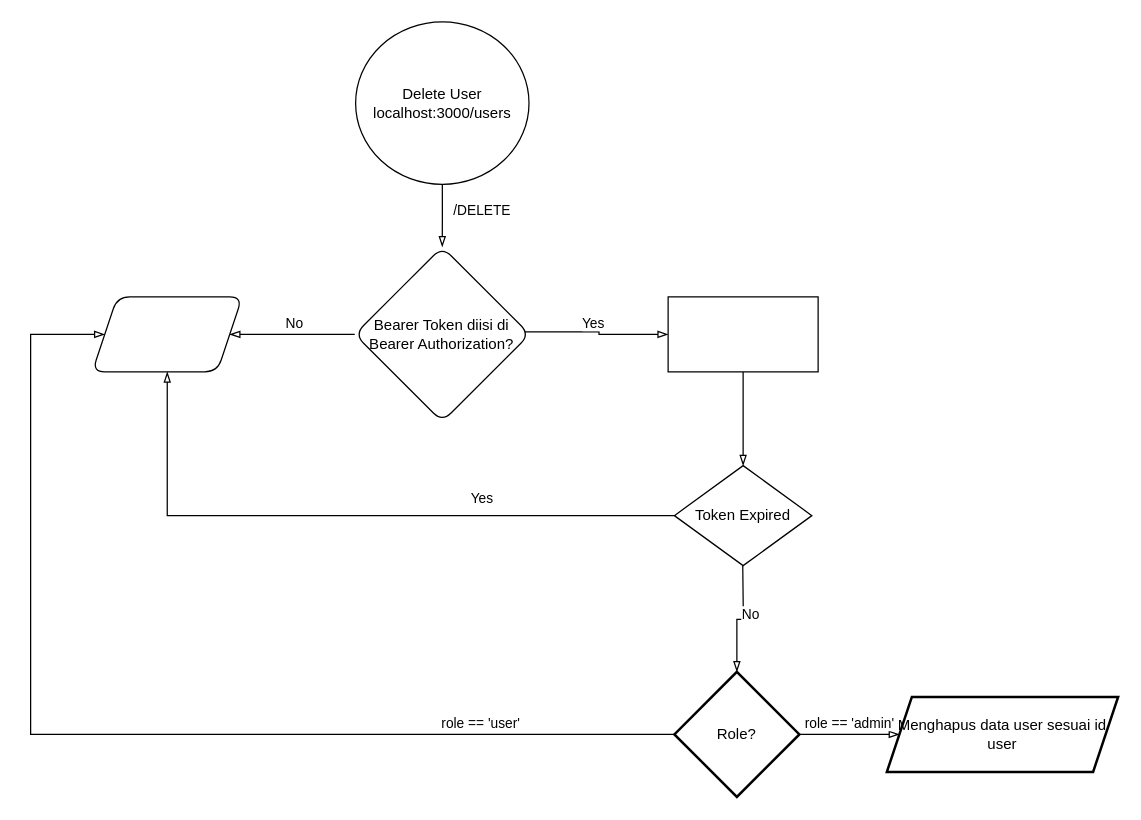
Some shapes in this 1141 by 820 pixel diagram are drawn without their labels. Here are the shapes that lost their labels. From the top down, the centre of each, then its label:
At [166,334]: "Forbidden".
At [742,334]: "Verify Token".
